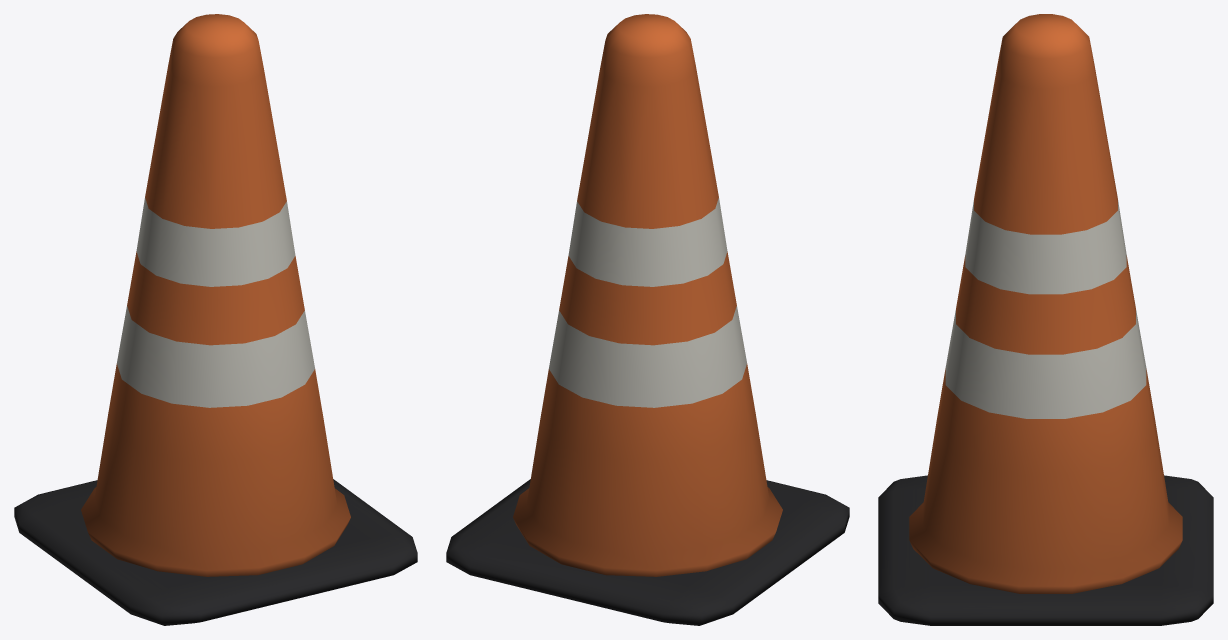
File: TrafficCone.fbx
The picture shows the model from 3 angles, left to right: view 1: azimuth 30°, elevation 25°; view 2: azimuth 150°, elevation 25°; view 3: azimuth 270°, elevation 25°; orthographic projection. The views are drawn at different scales.
Visible parts, largest first — view 1: TrafficCone; view 2: TrafficCone; view 3: TrafficCone.
Part boxes in pixels (box(x1,y1,x2,y2)): TrafficCone: box(14, 14, 417, 625); TrafficCone: box(446, 14, 849, 625); TrafficCone: box(878, 14, 1213, 625).
Bounding box in the file's own units: 0.38 × 0.6725 × 0.38.
